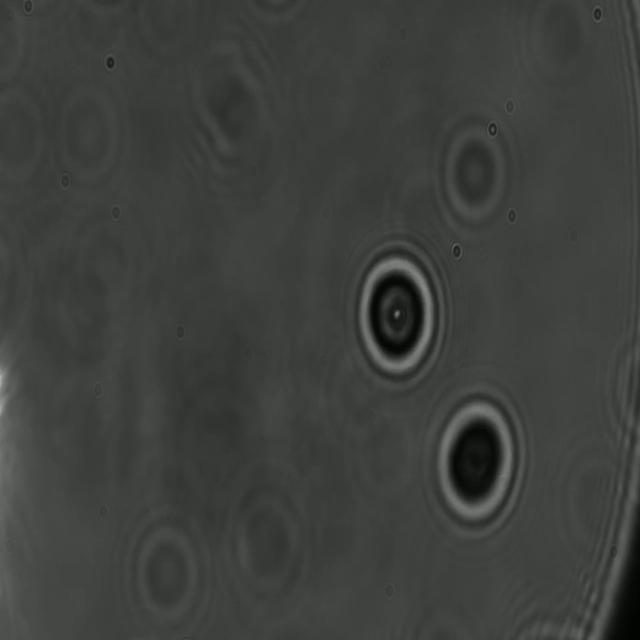DCELL: (417, 369, 534, 549)
LCELL: (340, 226, 454, 401)
